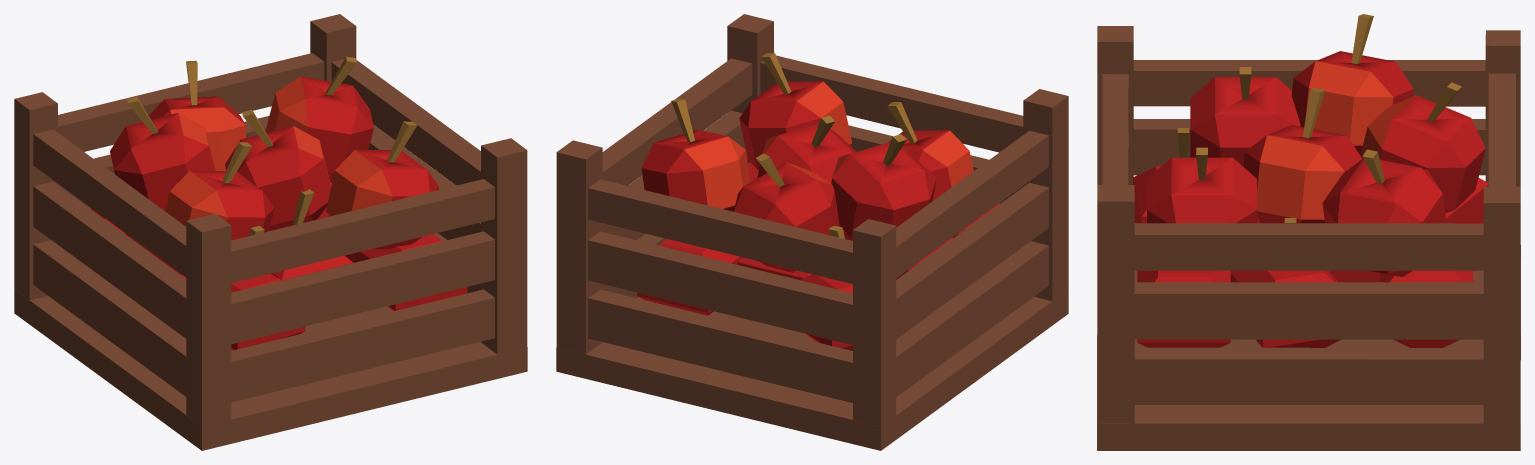
The model's file is box_with_apple.fbx.
The picture shows the model from 3 angles, left to right: view 1: azimuth 30°, elevation 25°; view 2: azimuth 150°, elevation 25°; view 3: azimuth 270°, elevation 25°; orthographic projection. The views are drawn at different scales.
Visible parts, largest first — view 1: Plane.002; view 2: Plane.002; view 3: Plane.002.
Part boxes in pixels (<box>): Plane.002: <box>14,14,527,450</box>; Plane.002: <box>556,14,1068,450</box>; Plane.002: <box>1097,14,1520,450</box>.
Size of the model in its own units: 79.15 by 58.6 by 79.15.
